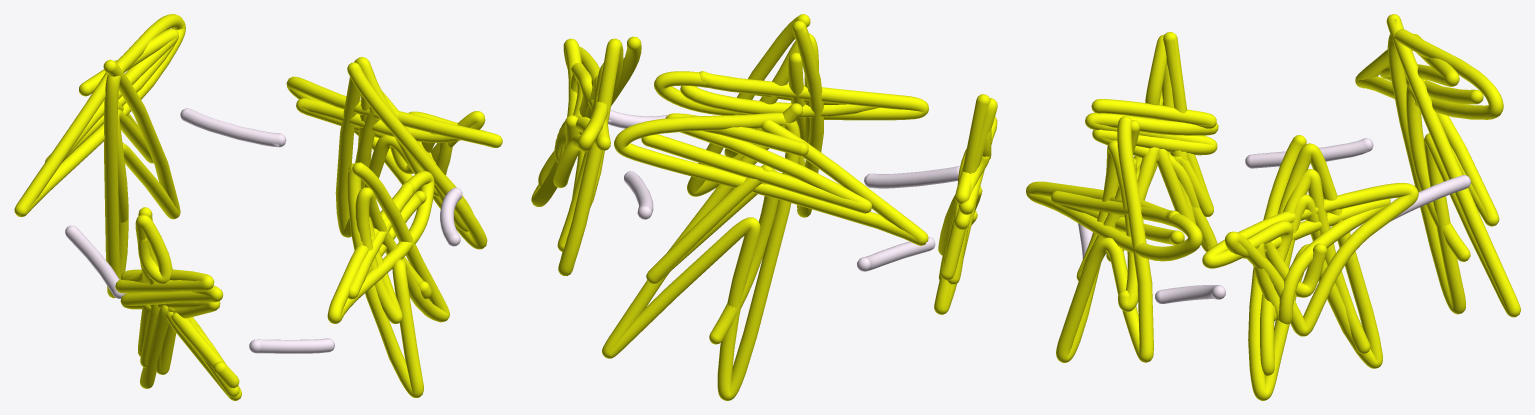
Rendered from star.glb.
3 views of the same model, side by side, from view 1: azimuth 30°, elevation 25°; view 2: azimuth 150°, elevation 25°; view 3: azimuth 270°, elevation 25° (orthographic). The views are drawn at different scales.
Visible parts, largest first — view 1: star; view 2: star; view 3: star.
Boxes of the visible parts, x1=… form: star: x1=14, y1=14, x2=502, y2=400; star: x1=531, y1=14, x2=997, y2=400; star: x1=1026, y1=14, x2=1520, y2=400.
Size of the model in its own units: 0.3138 by 0.1898 by 0.3029.
1 material, 1 textured.
